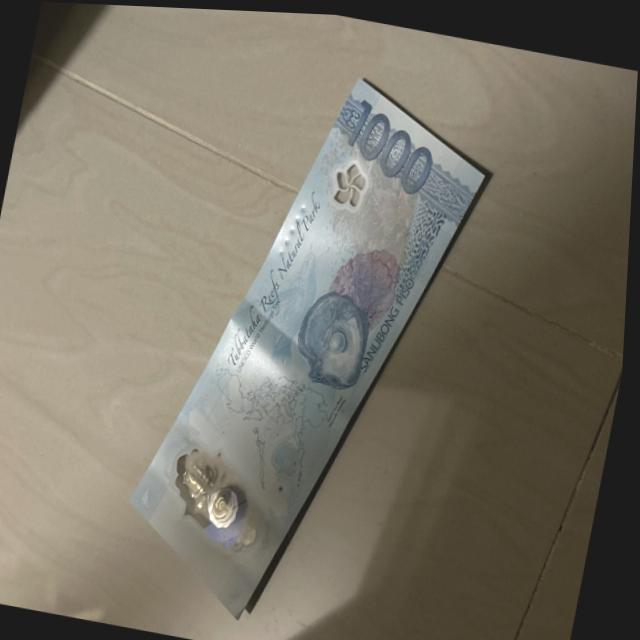clear_window: (159, 437, 288, 548)
sampaguita: (325, 152, 375, 207)
value: (341, 96, 449, 195)
